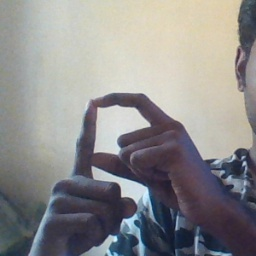D: (56, 89, 186, 205)
